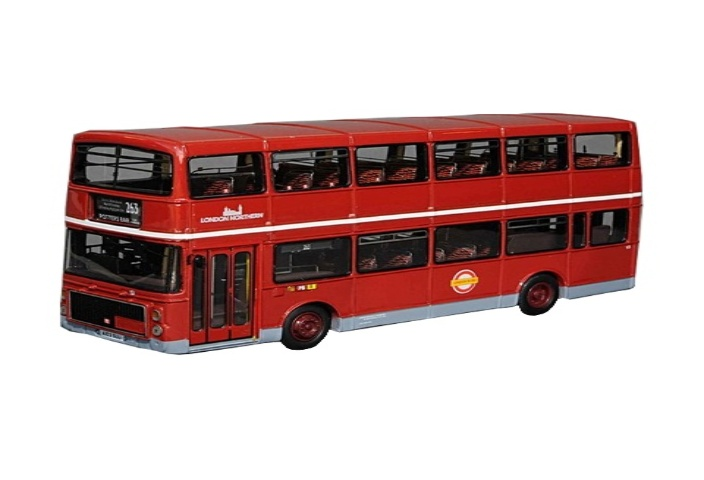bus: (57, 105, 650, 343)
